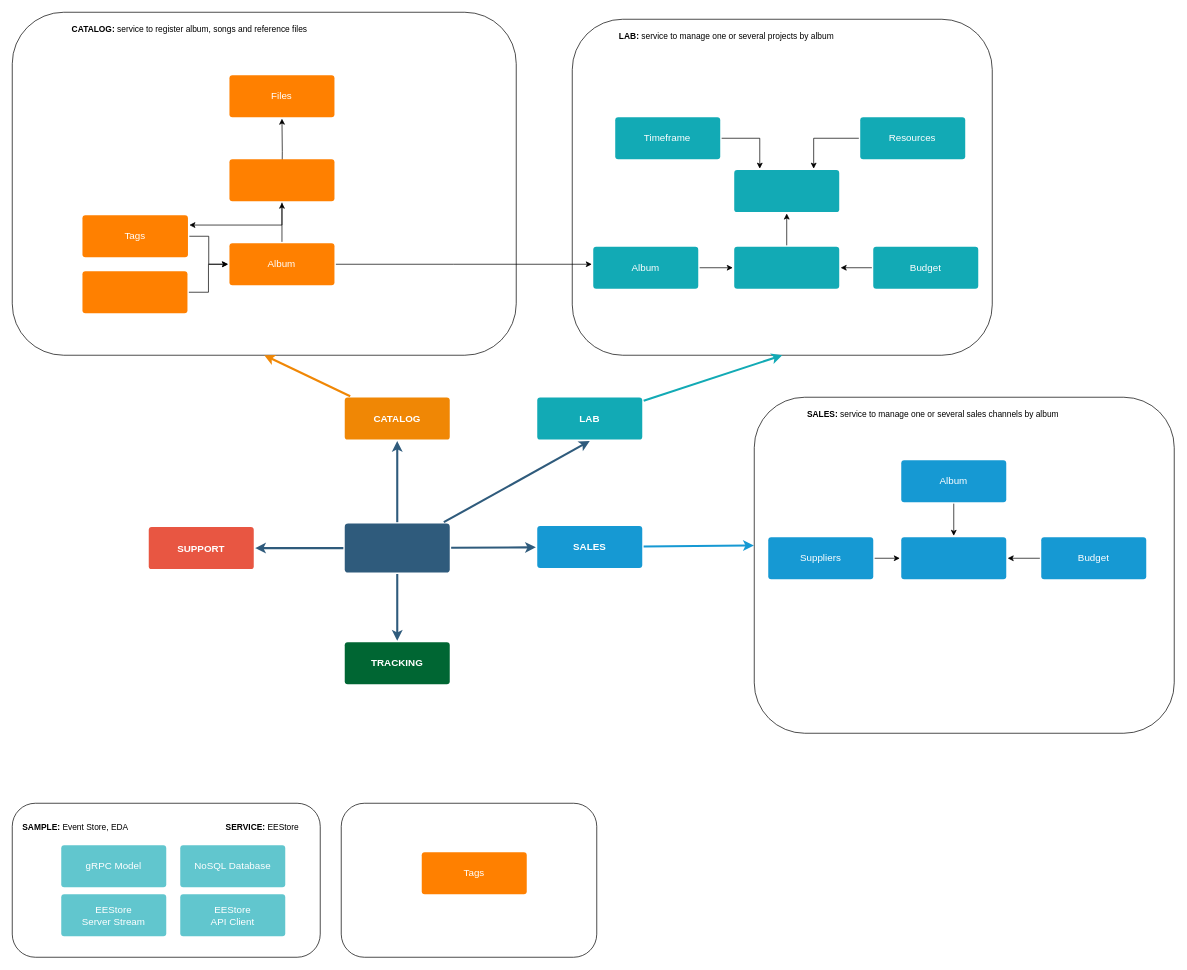
This 1187x970 diagram has some shape labels left out. Here are the shapes that lost their labels. From the top down, the centre of each, then its label:
the point at 281,180: Song
the point at 786,191: Tasks
the point at 786,267: Project
the point at 134,292: Author
the point at 396,547: MyMusicStore
the point at 953,558: Sales Plan
